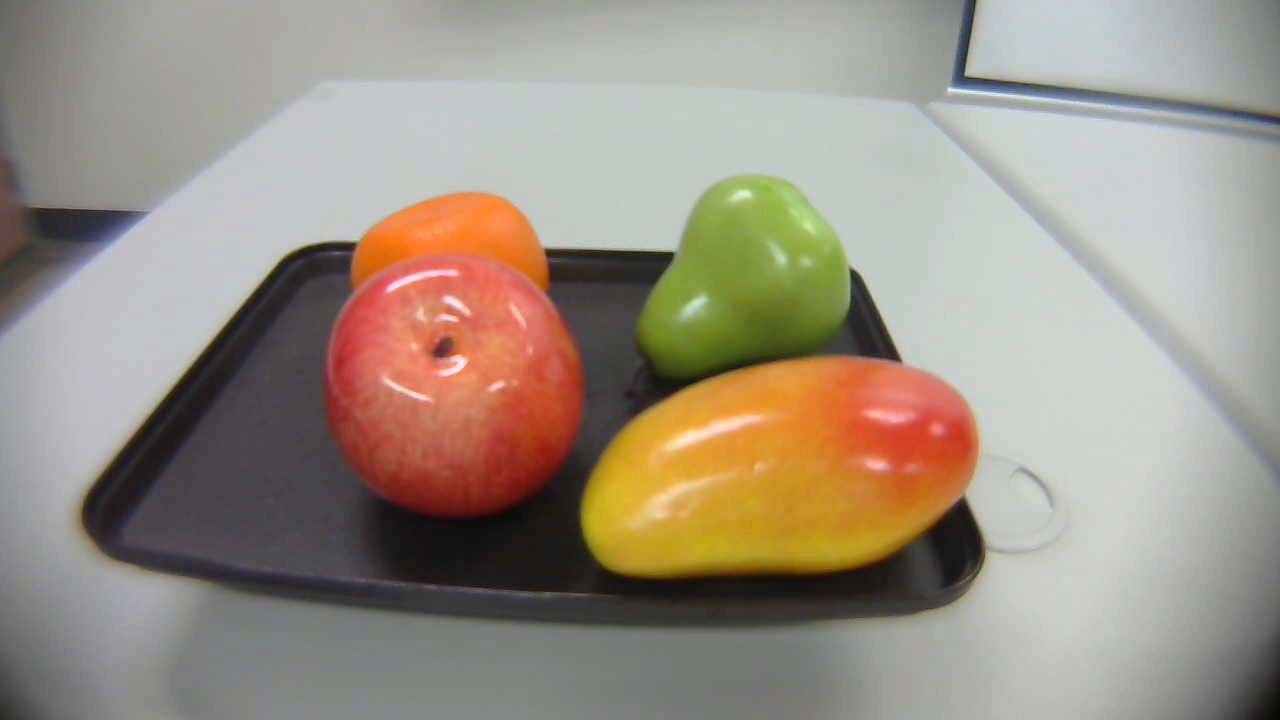green pear: (618, 173, 857, 399)
orange: (337, 178, 558, 318)
red apple: (318, 249, 582, 529)
red mango: (577, 348, 985, 616)
